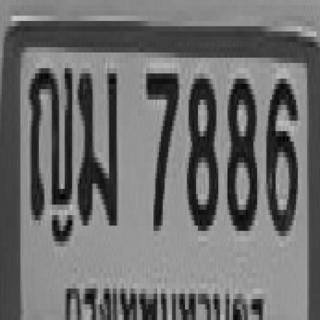A13: (28, 63, 72, 220)
A33: (76, 63, 117, 220)
N06: (264, 74, 296, 231)
N07: (144, 68, 178, 226)
N08: (185, 68, 216, 226), (226, 73, 255, 226)
